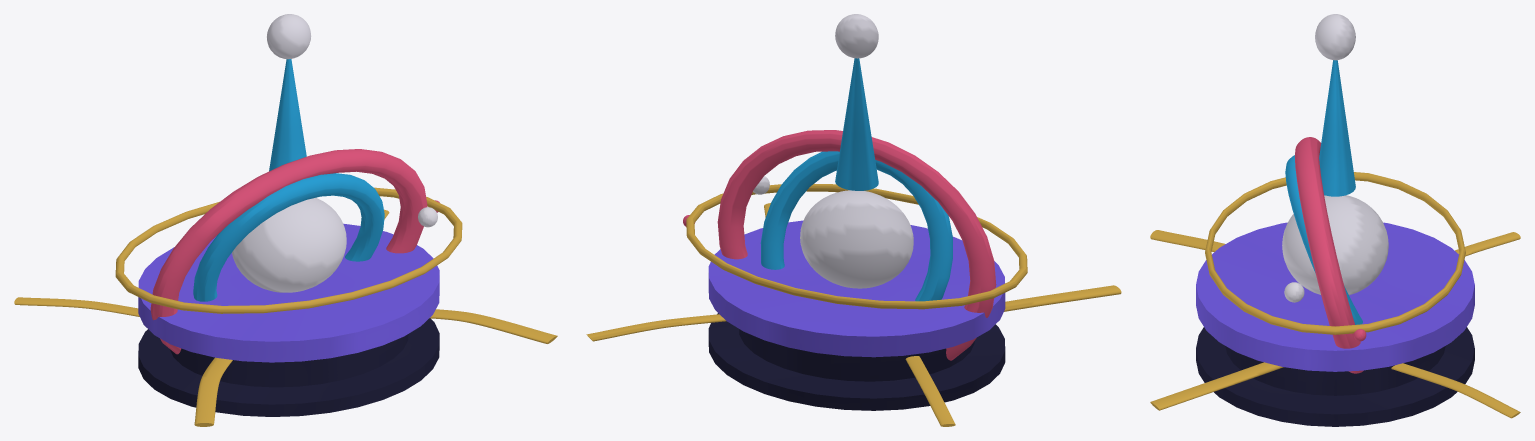
The model's file is 0054_天文图鉴_宇宙.glb.
The picture shows the model from 3 angles, left to right: view 1: azimuth 30°, elevation 25°; view 2: azimuth 150°, elevation 25°; view 3: azimuth 270°, elevation 25°; orthographic projection. The views are drawn at different scales.
Visible parts, largest first — view 1: card_0054; view 2: card_0054; view 3: card_0054.
Boxes of the visible parts, <box> form: card_0054: <box>14,14,557,426</box>; card_0054: <box>586,14,1121,426</box>; card_0054: <box>1150,14,1520,426</box>.
Size of the model in its own units: 1.12 by 1 by 0.9522.
